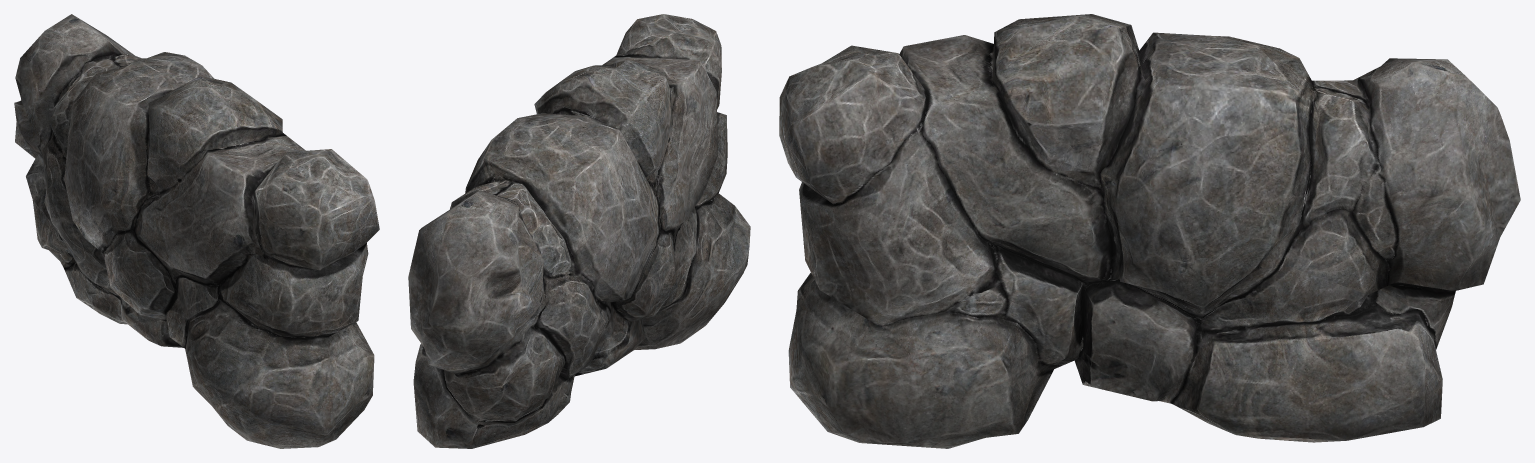
File: Rocks_03.dae
3 renders of one model, left to right at view 1: azimuth 30°, elevation 25°; view 2: azimuth 150°, elevation 25°; view 3: azimuth 270°, elevation 25°, orthographic. The views are drawn at different scales.
Parts seen in each view (by area): view 1: Rocks_03; view 2: Rocks_03; view 3: Rocks_03.
Part boxes in pixels (left/top/right/bottom): Rocks_03: left=14, top=14, right=379, bottom=448; Rocks_03: left=408, top=14, right=750, bottom=448; Rocks_03: left=779, top=14, right=1520, bottom=448.
Bounding box in the file's own units: 81.91 × 245 × 148.
Materials: 1 (1 with a texture image).
